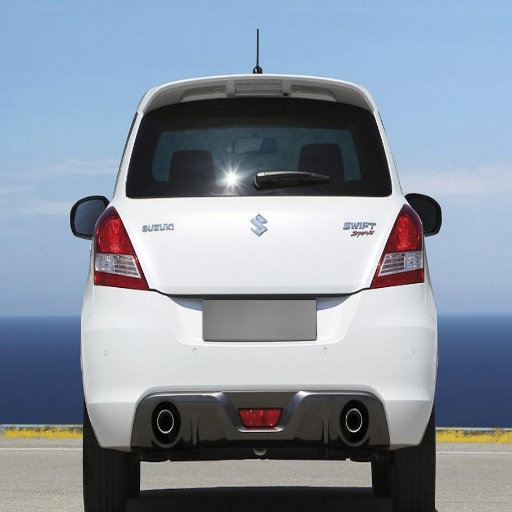back_bumper: (76, 284, 440, 448)
tailgate: (113, 194, 391, 336)
trunk: (177, 199, 353, 293), (183, 296, 306, 337)
